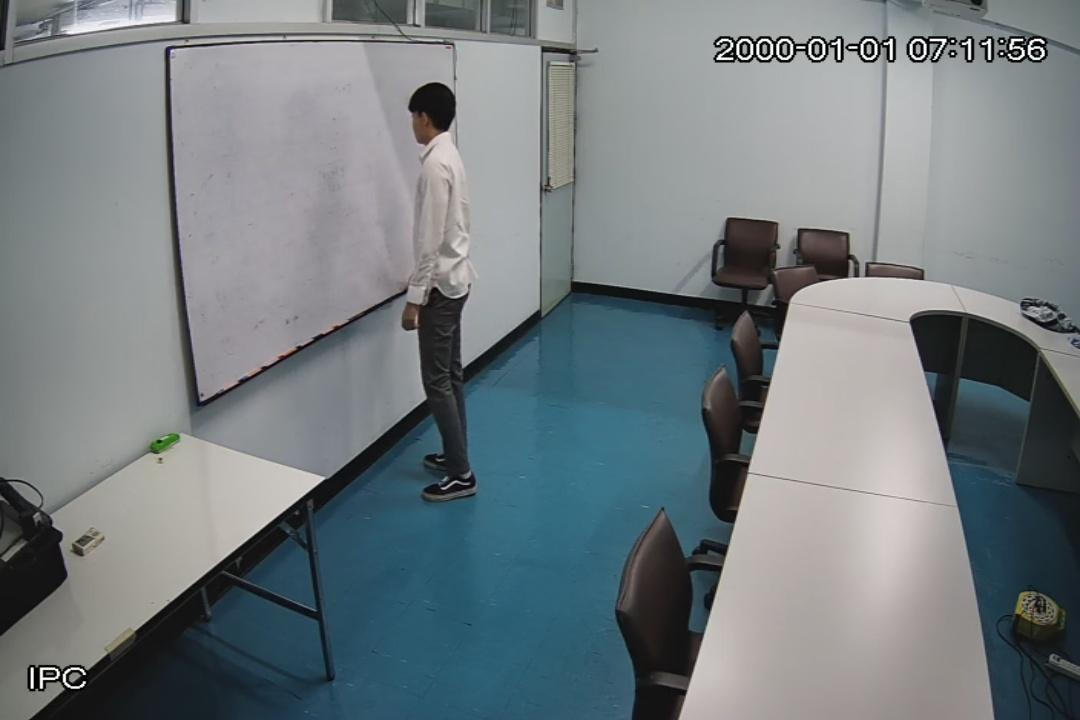normal: (397, 81, 482, 502)
